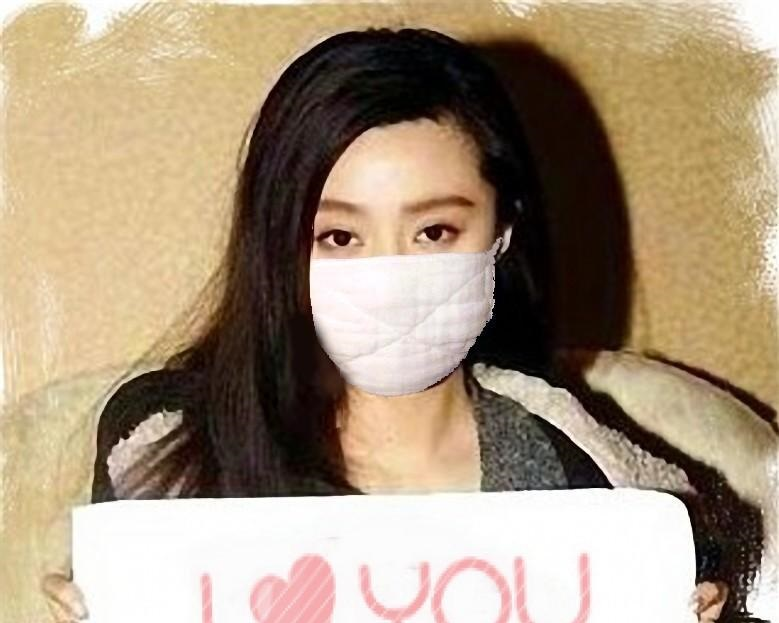face_mask: (308, 143, 496, 397)
